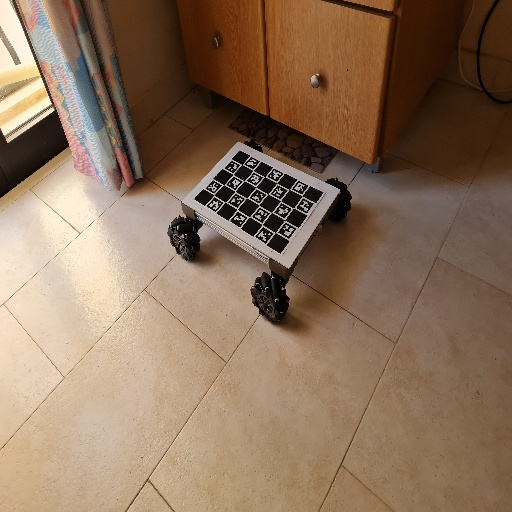Omniwheel: (167, 139, 355, 326)
